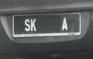A: (61, 16, 69, 30)
K: (31, 18, 37, 31)
S: (24, 18, 31, 31)
